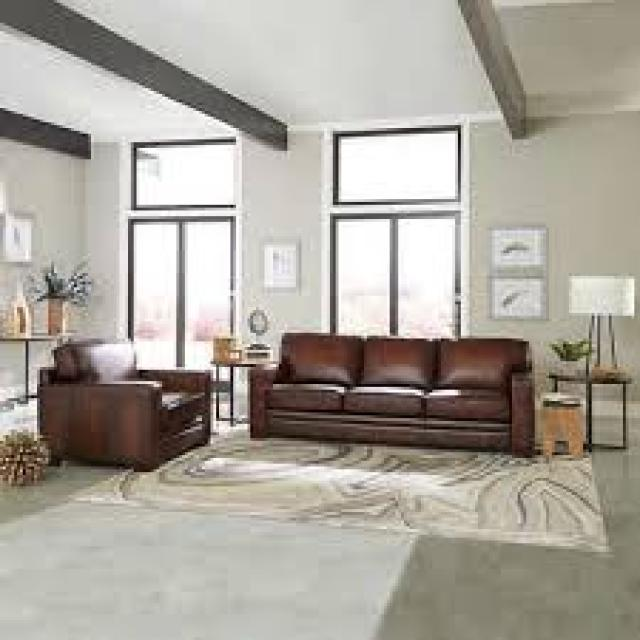Chair: (14, 314, 222, 460)
Lamp: (566, 267, 640, 367)
Sofa: (241, 325, 549, 462)
Table: (551, 359, 636, 458), (213, 360, 266, 430)
